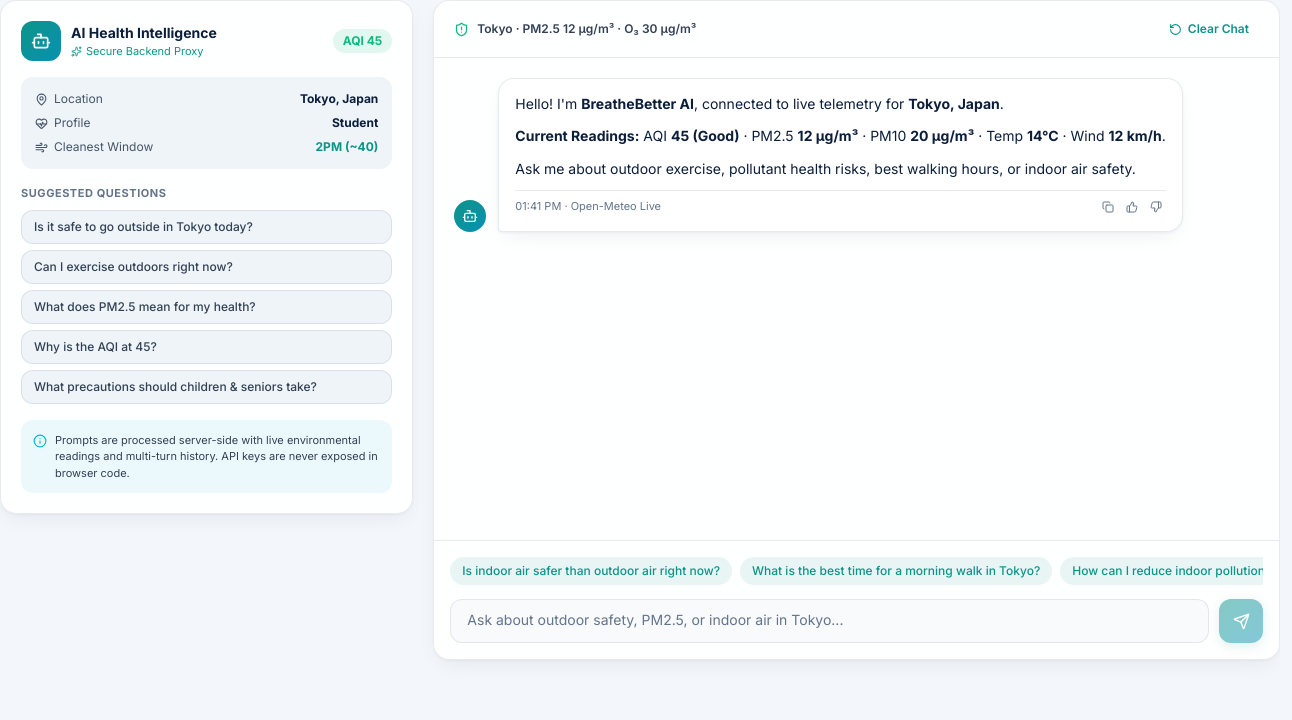
Test case: React Components & Accessibility Tests › ChatAssistant sends user question to backend AI endpoint and renders source-aware reply
Type "What does PM2.5 mean?" into the text box with placeholder "Ask about outdoor safety, PM2.5, or indoor air in Tokyo...".
click(830, 621); type("What does PM2.5 mean?")  # box [450,599,1209,643]
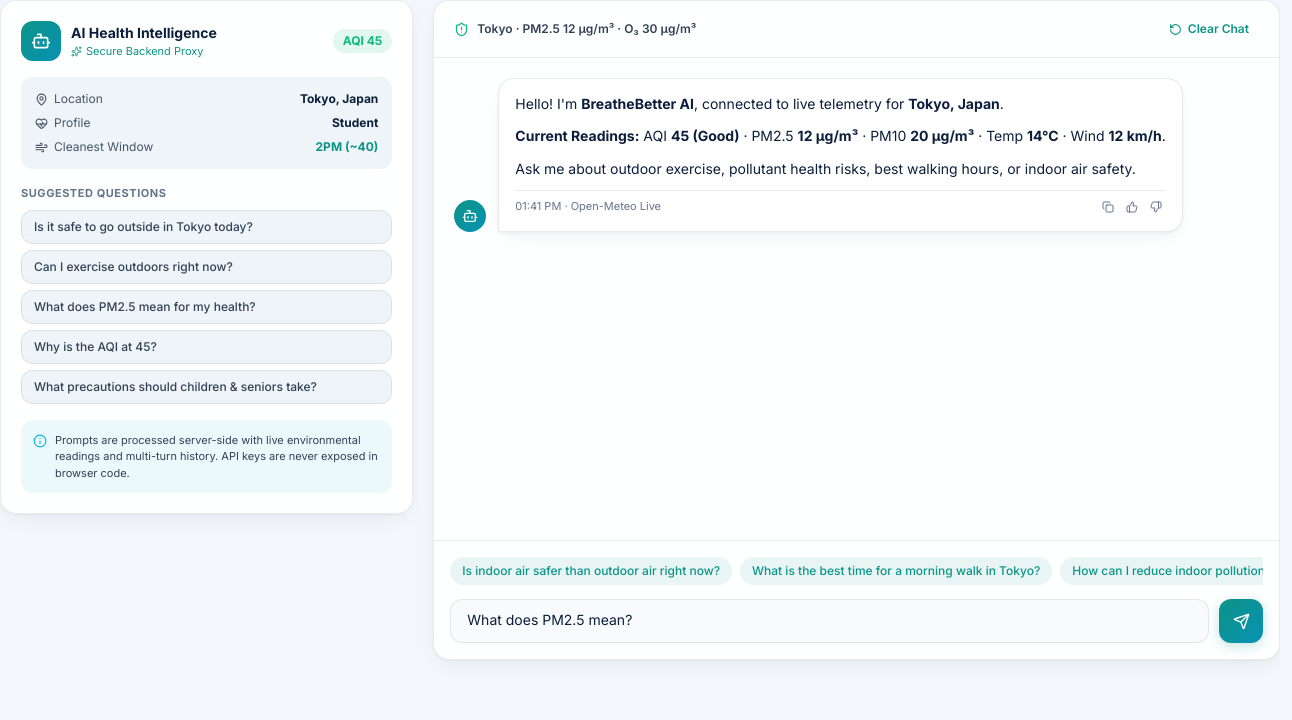
Click the button named "Send message".
click(1241, 621)  # box [1219,599,1263,643]
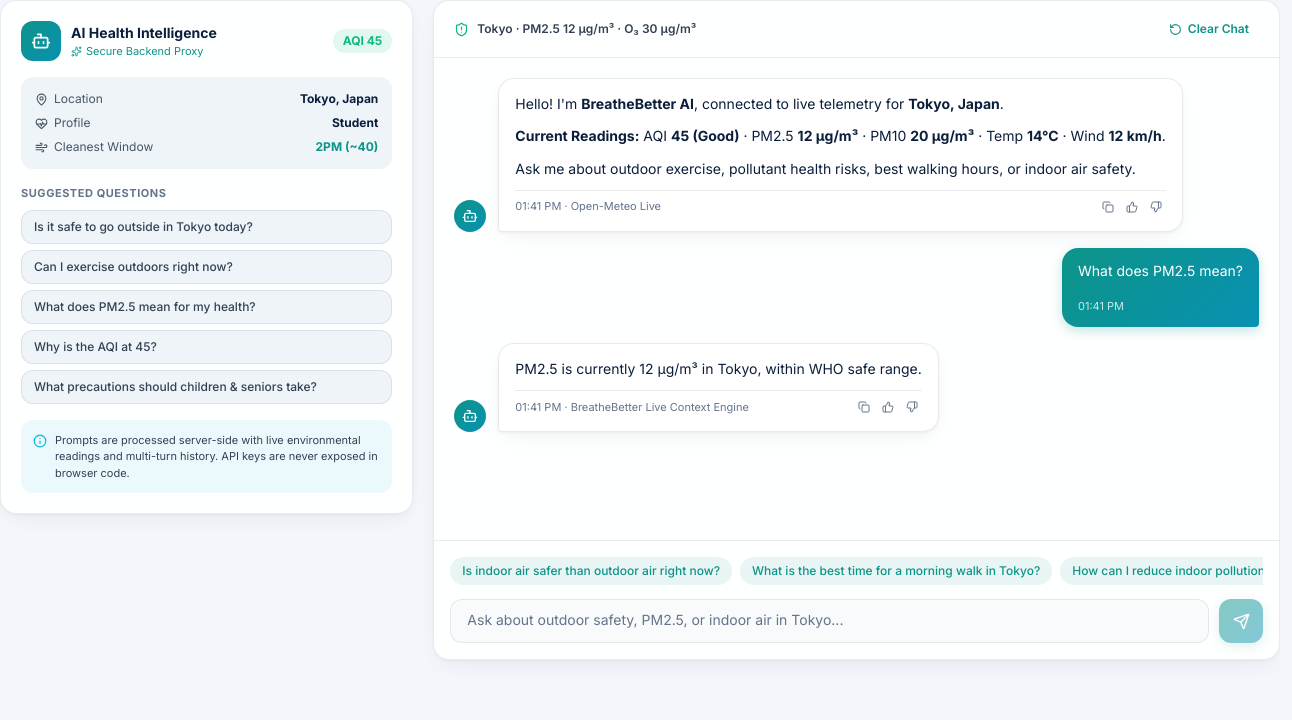
Result: the text "PM2.5 is currently 12 µg/m³ in Tokyo, within WHO safe range." is shown at [515,360,922,377]
